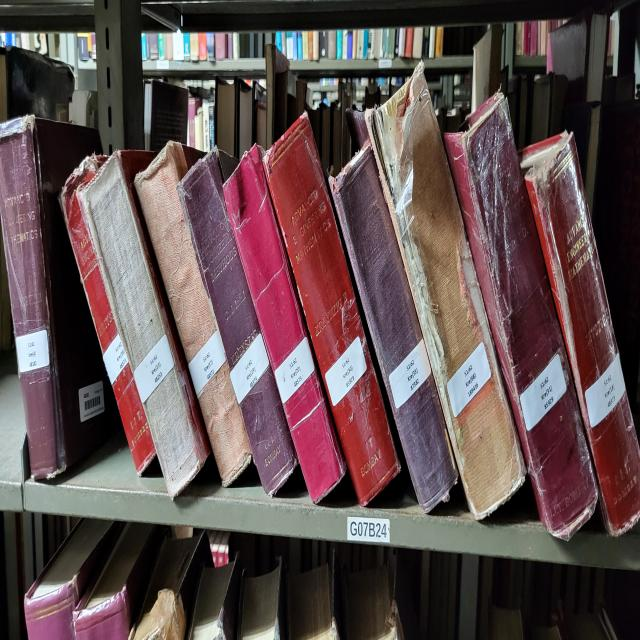Book: (365, 62, 525, 519), (444, 92, 598, 538), (262, 114, 400, 506), (521, 133, 640, 536), (330, 141, 458, 511), (81, 149, 210, 498), (0, 114, 119, 479), (224, 146, 345, 503), (178, 149, 296, 495), (60, 154, 155, 473), (135, 141, 216, 363), (199, 354, 251, 487)
Label: (520, 354, 566, 430), (448, 341, 491, 417), (585, 352, 625, 427), (389, 338, 431, 409), (325, 335, 366, 406), (230, 333, 269, 403), (134, 335, 174, 403), (275, 338, 314, 403), (189, 330, 226, 398), (15, 330, 50, 373), (102, 335, 128, 384)
